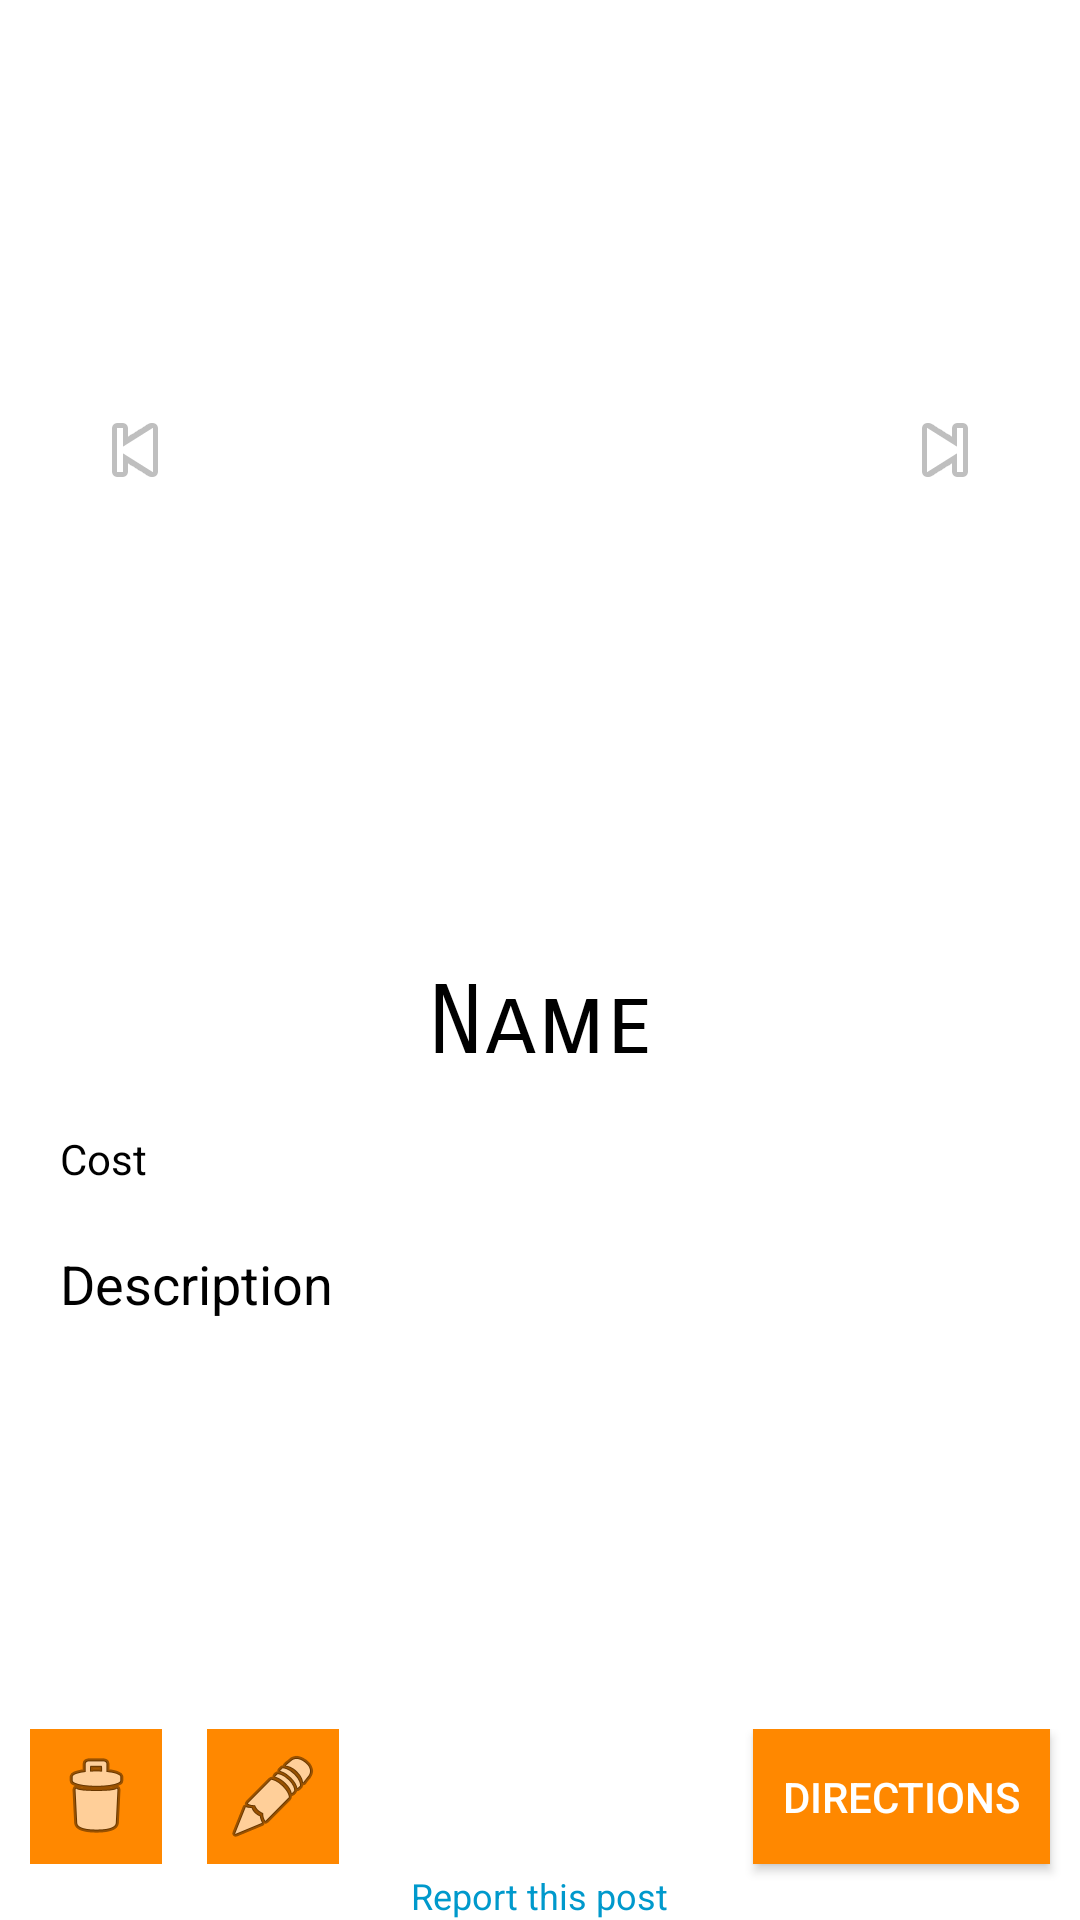

Icons on this 1080w x 1920h Android screen, each with its box as detection(x1, y1, x2, y2):
delete: detection(30, 1729, 162, 1864)
edit: detection(207, 1729, 339, 1864)
next: detection(922, 423, 968, 477)
previous: detection(112, 423, 158, 477)
